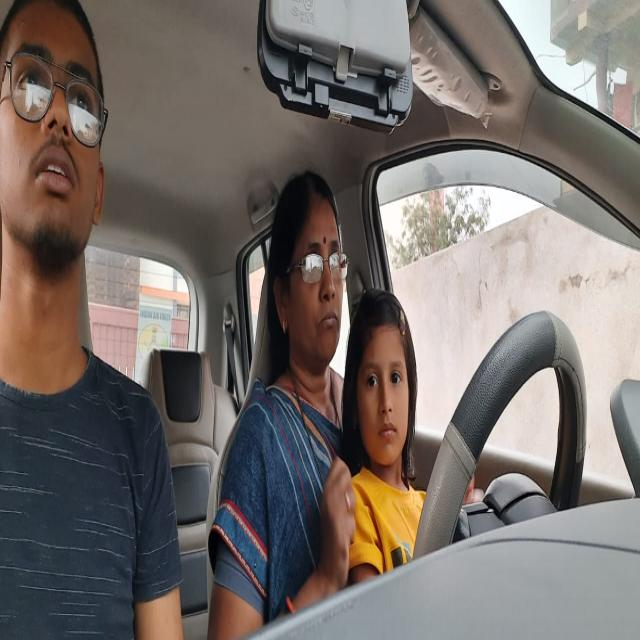child: (350, 301, 415, 470)
person: (5, 3, 110, 276), (272, 188, 344, 360)
